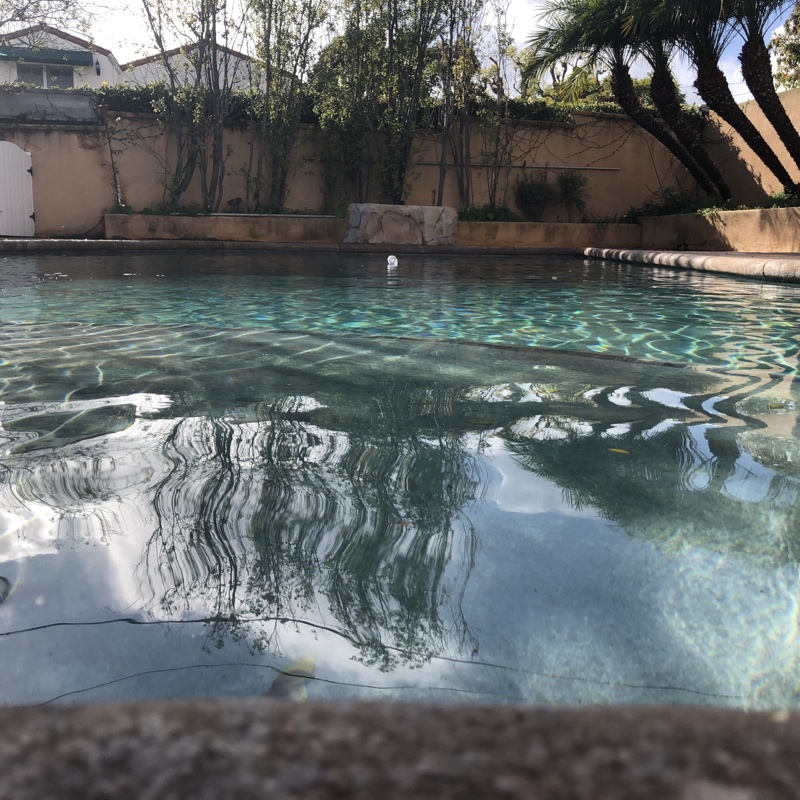Plastic Bottle: (383, 253, 400, 272)
